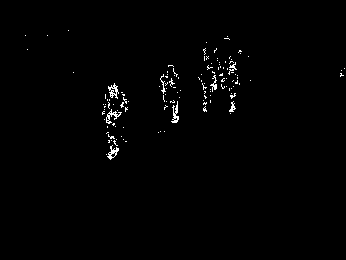person: (101, 84, 129, 163), (159, 62, 182, 124)
